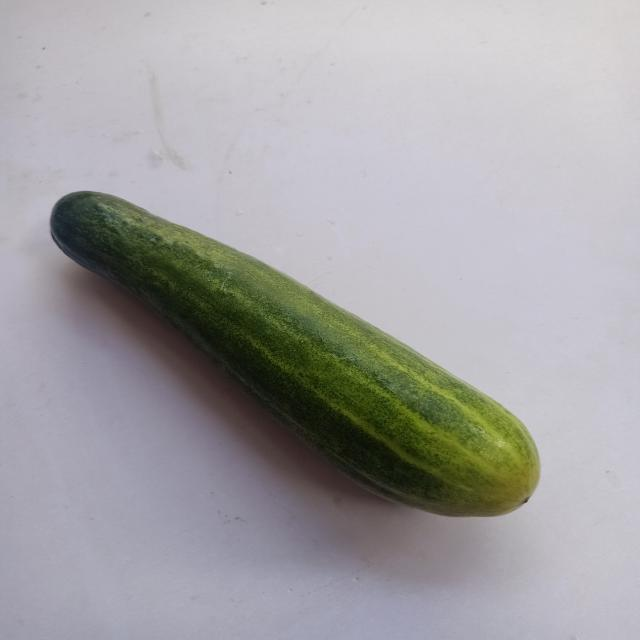Cucumber: (0, 157, 581, 553)
